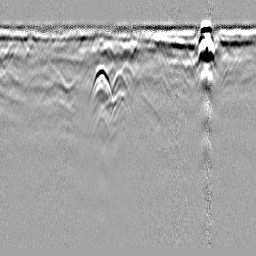cavity: (121, 59, 136, 82)
